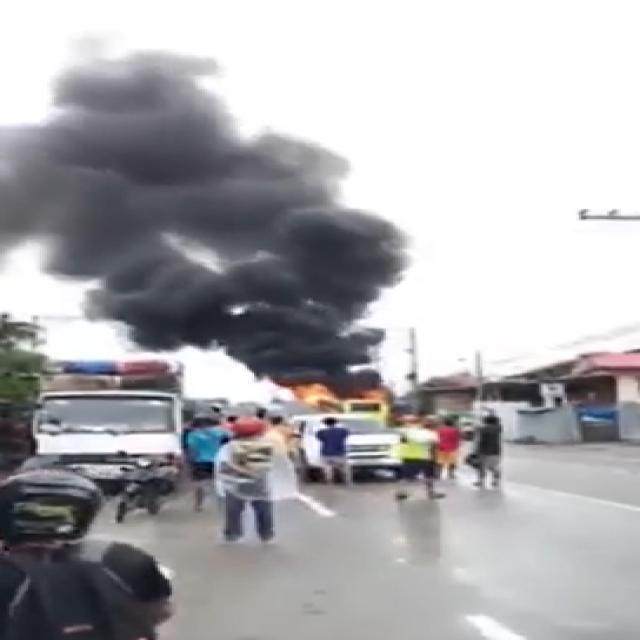Fire: (298, 367, 396, 410)
Smoke: (0, 56, 431, 383)
